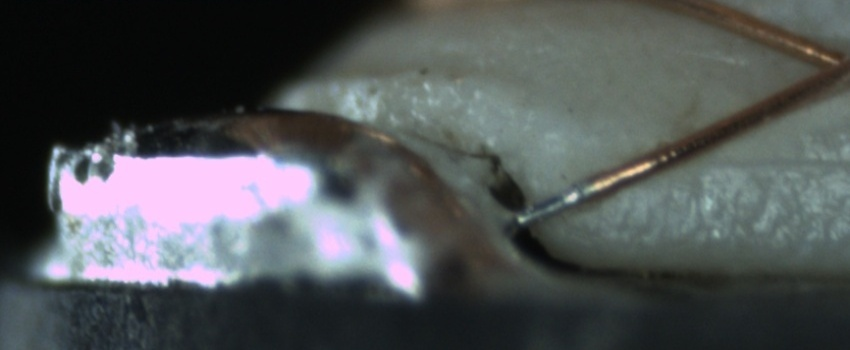CL: (791, 33, 850, 94)
DL: (673, 127, 850, 191)
TS: (517, 177, 594, 226)
